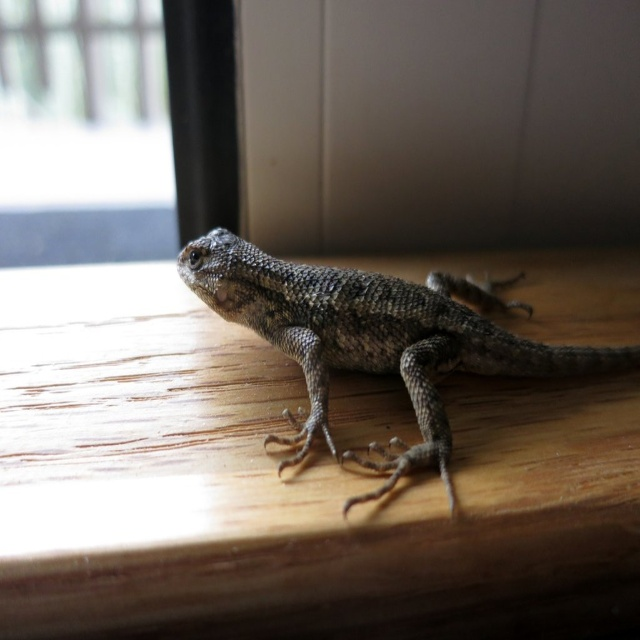Lizard: (174, 223, 638, 521)
